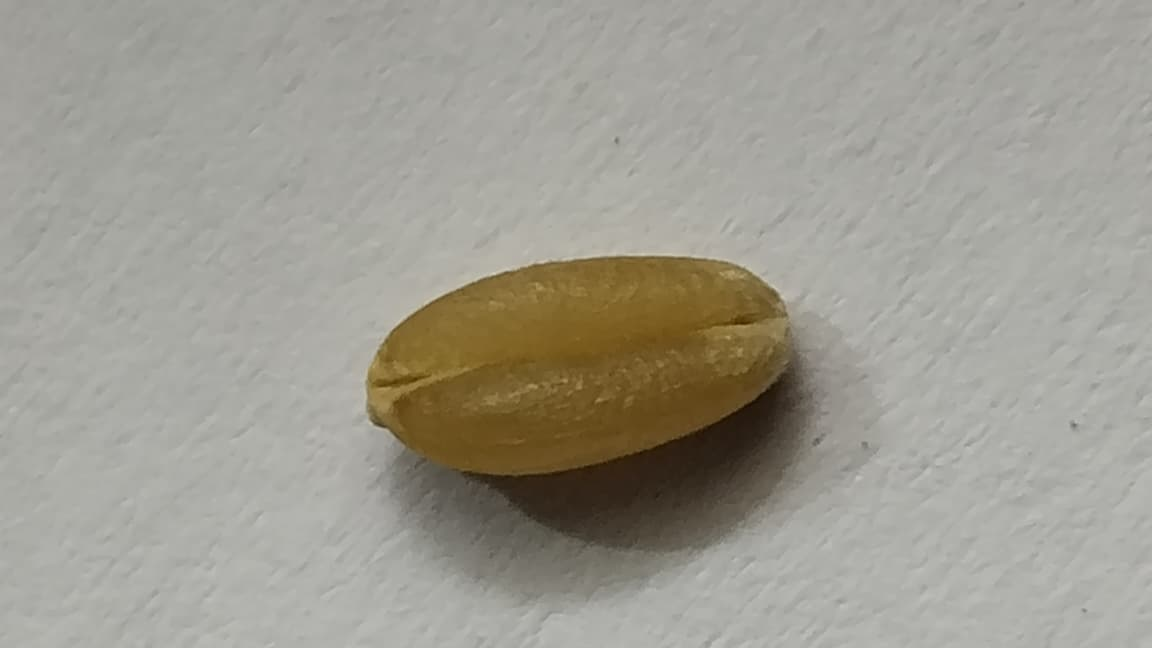healthy: (365, 251, 799, 475)
